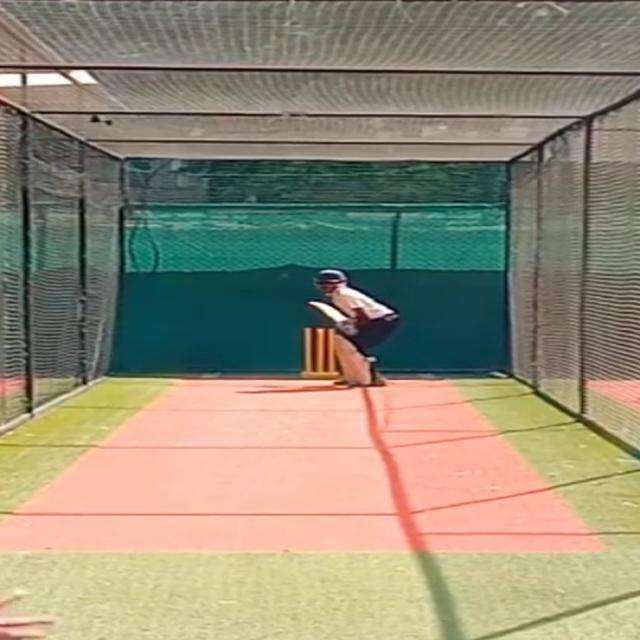stump: (298, 325, 338, 380)
